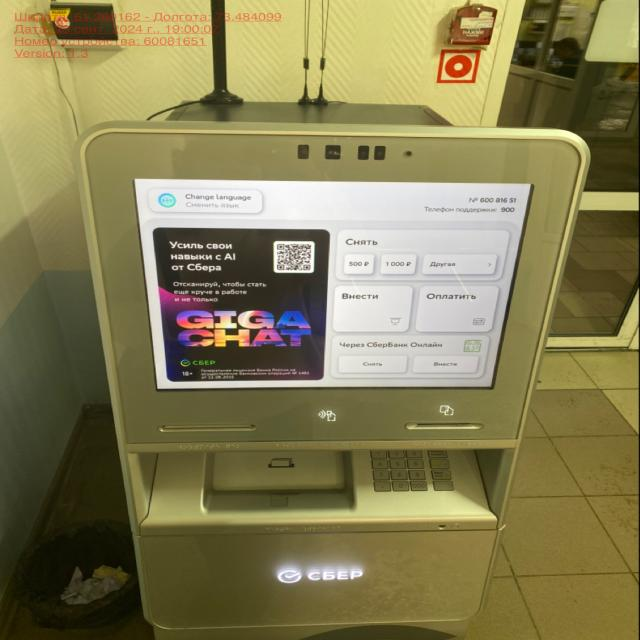bank: (75, 98, 614, 640)
